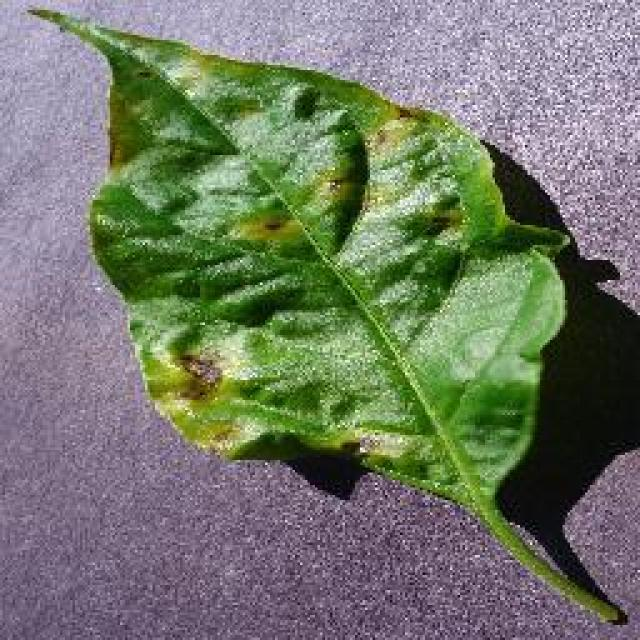Chilli_Bacterial_Spot: (25, 2, 573, 478), (142, 322, 260, 458), (230, 162, 358, 250), (158, 335, 238, 413), (232, 205, 308, 247), (368, 110, 420, 155), (172, 348, 222, 390), (288, 82, 322, 122), (318, 170, 350, 202), (258, 213, 288, 235)
